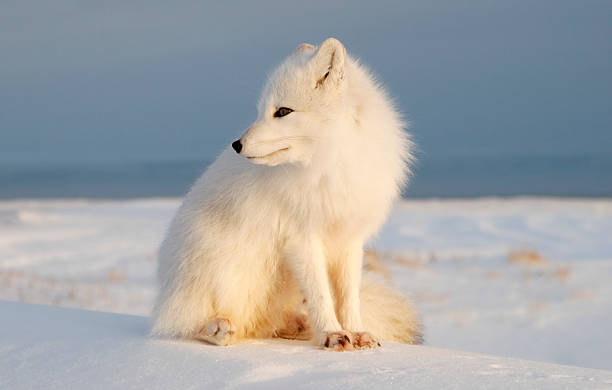arcticfox: (225, 68, 321, 189)
